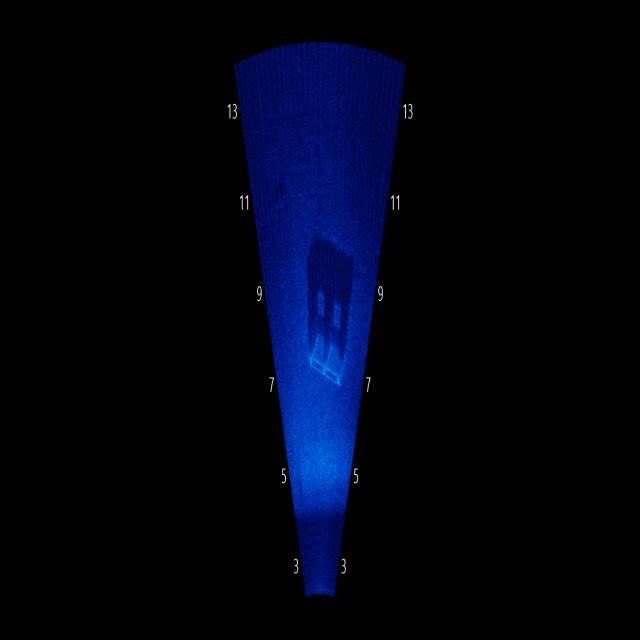square: (305, 320, 348, 393)
